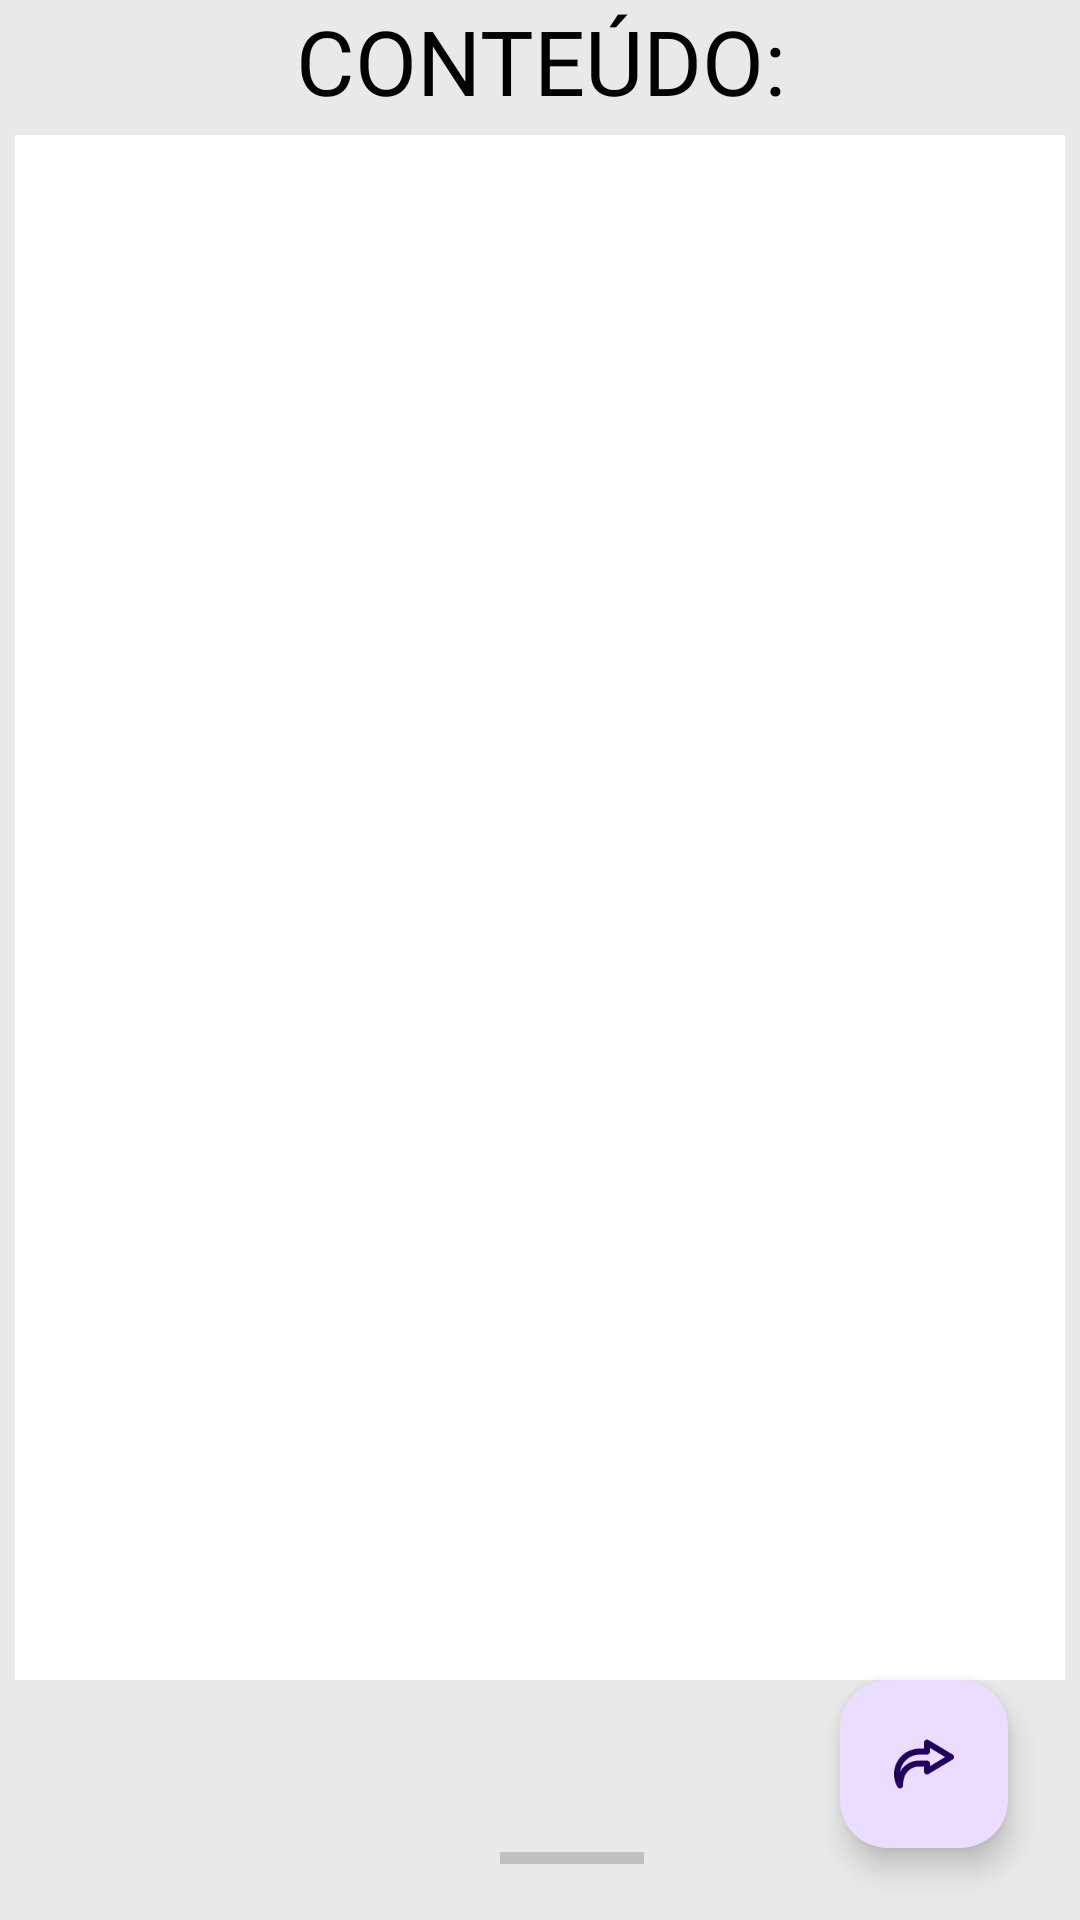

Screen size 1080x1920. Icon name, then its center in pixels as [x,y]:
send: [924,1764]
